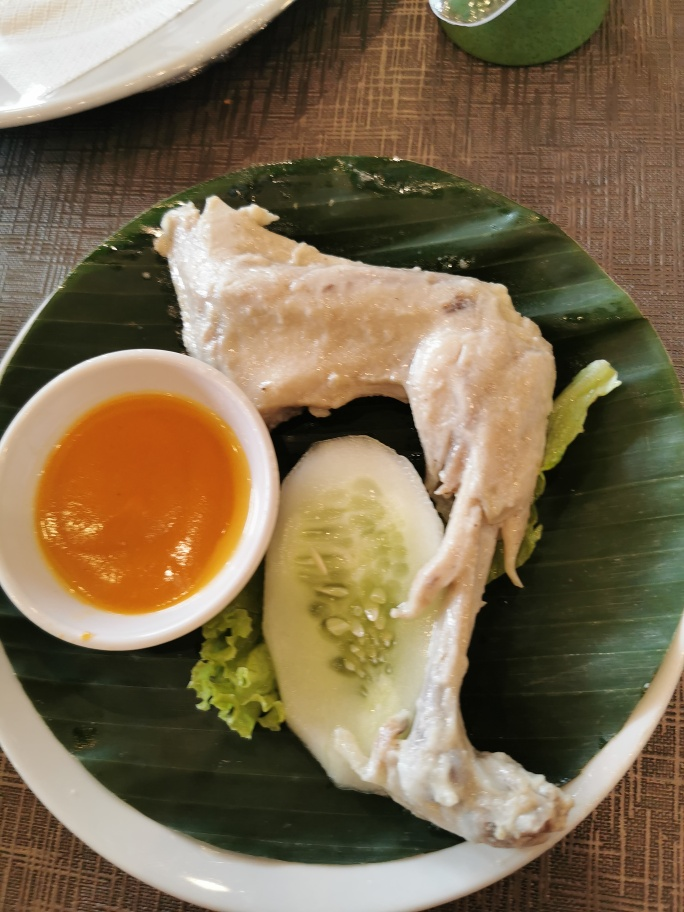ayam pop: (156, 198, 574, 849)
extra: (1, 388, 440, 788)
